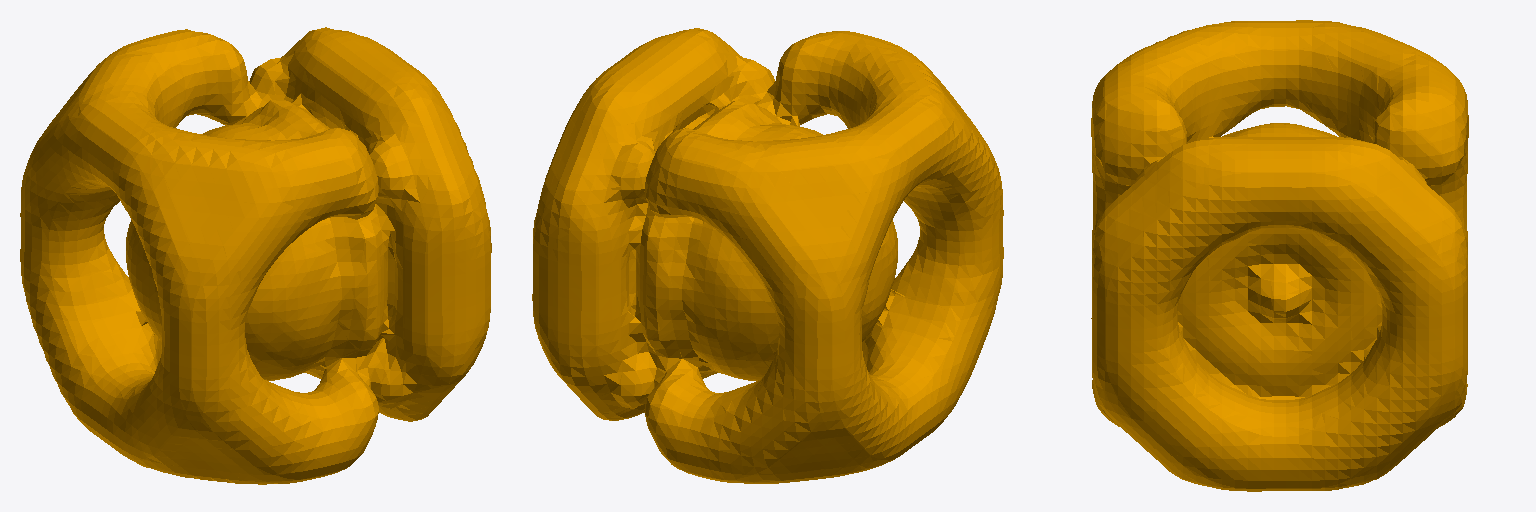
URDF robot description (N12_1):
<?xml version="1.0"?>
<robot name="N12_1">
  <link name="base_link">
    <inertial>
      <mass value="0.13795" />
      <origin xyz="0 0 0" />
      <inertia  ixx="0.0002" ixy="0.0"  ixz="0.0"  iyy="0.0002"  iyz="0.0" izz="0.0002" />
    </inertial>
    <visual>
      <geometry>
        <mesh filename="../../../meshes/egad/train/N12_1.obj" />
      </geometry>
    </visual>
    <collision>
      <geometry>
        <mesh filename="../../../meshes/egad/train/N12_1.obj" />
      </geometry>
    </collision>
  </link>
</robot>

--- Facts derived from the render (not from the file) ---
3 views of the same robot in one strip: view 1: azimuth 30°, elevation 25°; view 2: azimuth 150°, elevation 25°; view 3: azimuth 270°, elevation 25° (orthographic).
Model N12_1 with 1 links and 0 joints (none), rooted at base_link, posed every joint at zero.
Links seen in each view (by area): view 1: base_link; view 2: base_link; view 3: base_link.
Boxes of the visible links, box(x1,y1,x2,y2) form: base_link: box(20, 27, 491, 484); base_link: box(532, 28, 1003, 483); base_link: box(1091, 20, 1468, 491).
Bounding box of the posed robot: 0.0602 × 0.06 × 0.06 m (x, y, z).
Meshes: 1 distinct files referenced, 1 mesh visuals loaded (1 OBJ).